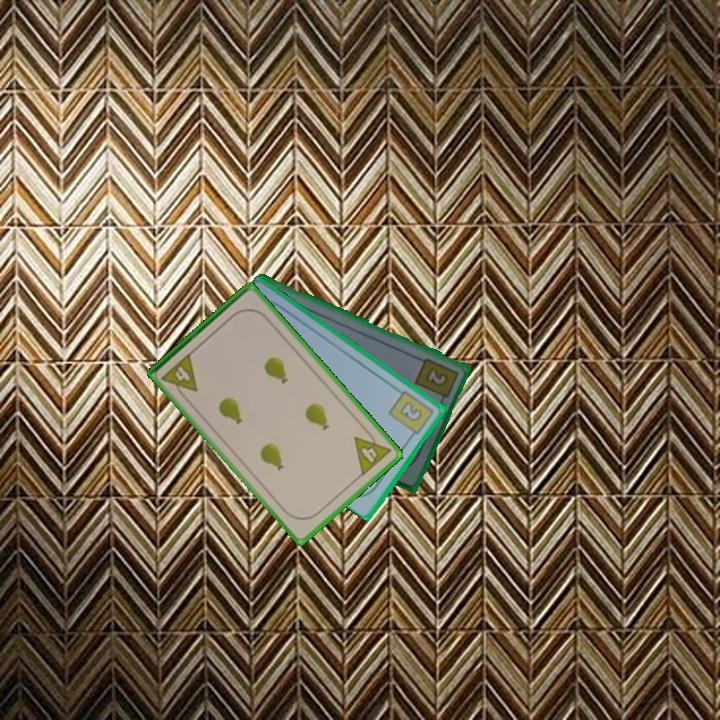2b: (385, 387, 437, 441), (412, 354, 462, 405)
4p: (350, 424, 394, 479), (158, 349, 201, 402)
